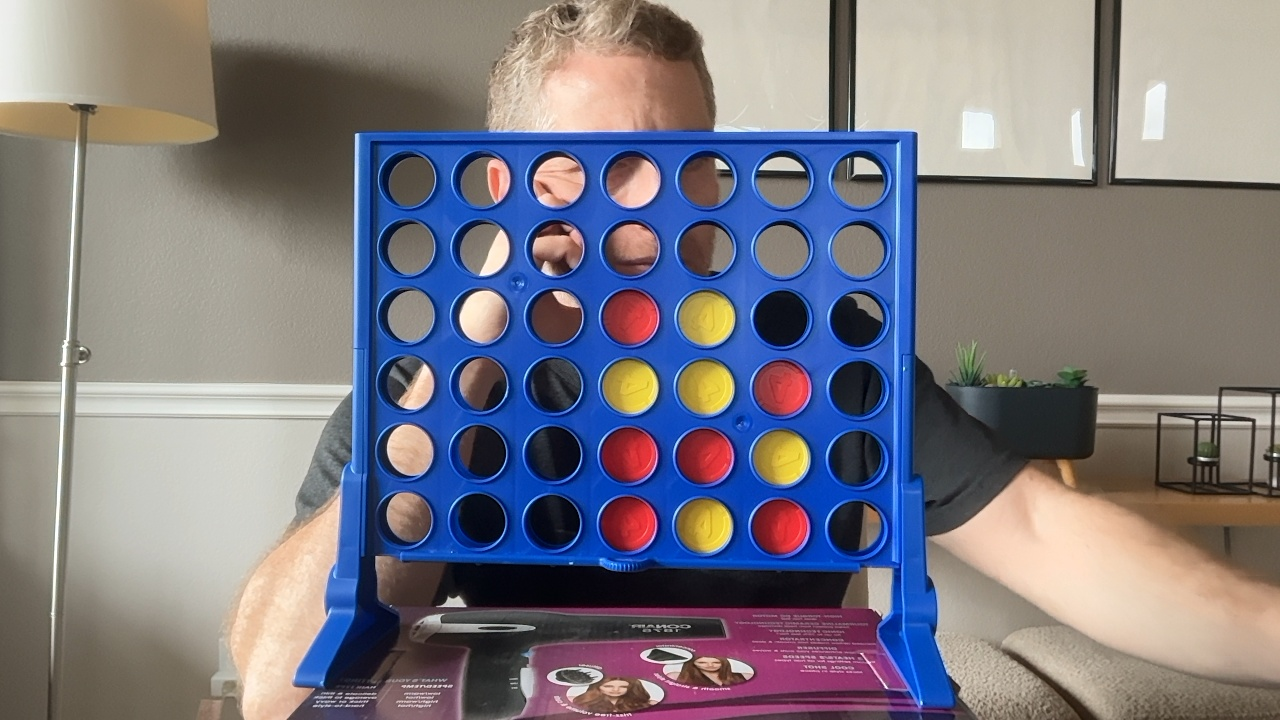red piece: (753, 360, 811, 416), (602, 289, 658, 346), (752, 499, 809, 555), (676, 428, 733, 483), (600, 427, 657, 482), (600, 496, 657, 551)
yellow piece: (677, 290, 735, 347), (677, 359, 734, 416), (601, 358, 658, 414), (752, 430, 810, 485), (676, 498, 732, 553)
